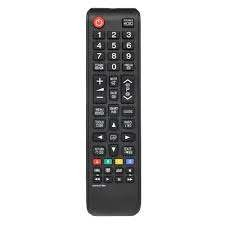remote control: (89, 9, 145, 217)
